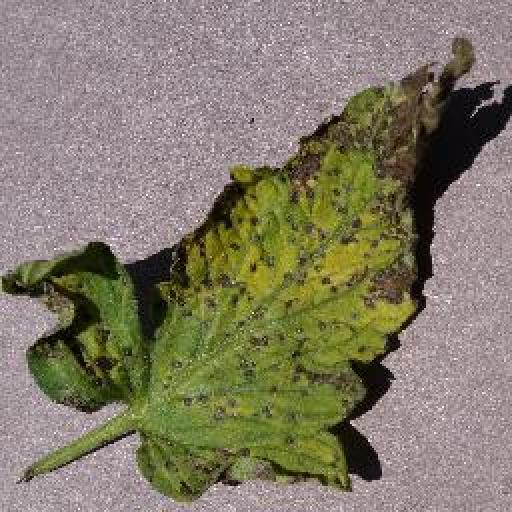Septoria: (6, 36, 475, 501)
